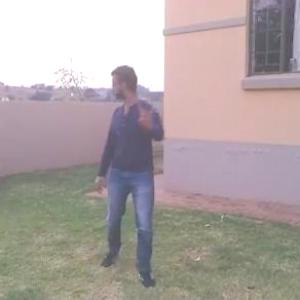takeoff-hand: (135, 95, 158, 130)
